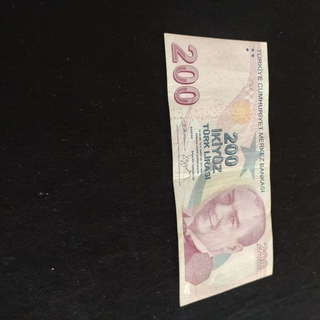200TLFront: (162, 32, 273, 307)
